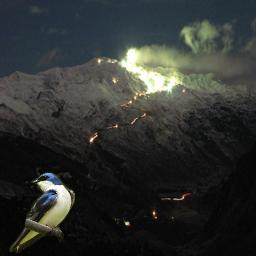Swallow: (9, 172, 75, 253)
